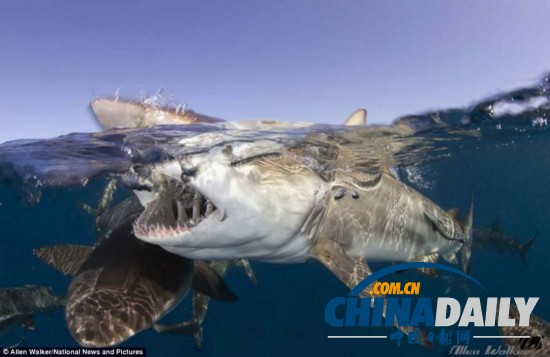shark: (133, 130, 500, 314), (82, 89, 403, 193), (29, 192, 234, 351), (460, 202, 547, 276)
